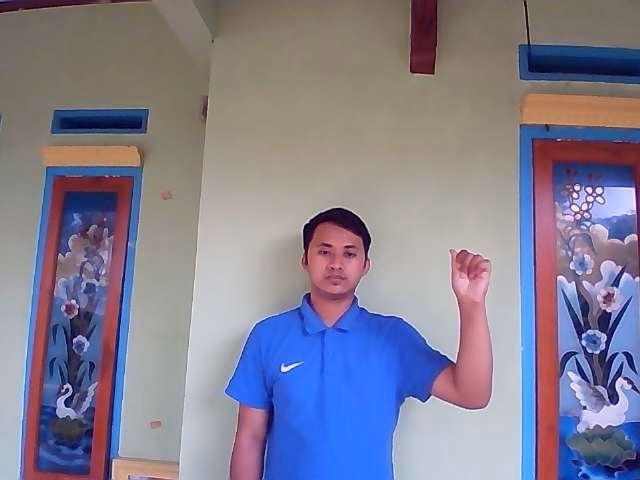A: (448, 246, 494, 304)
